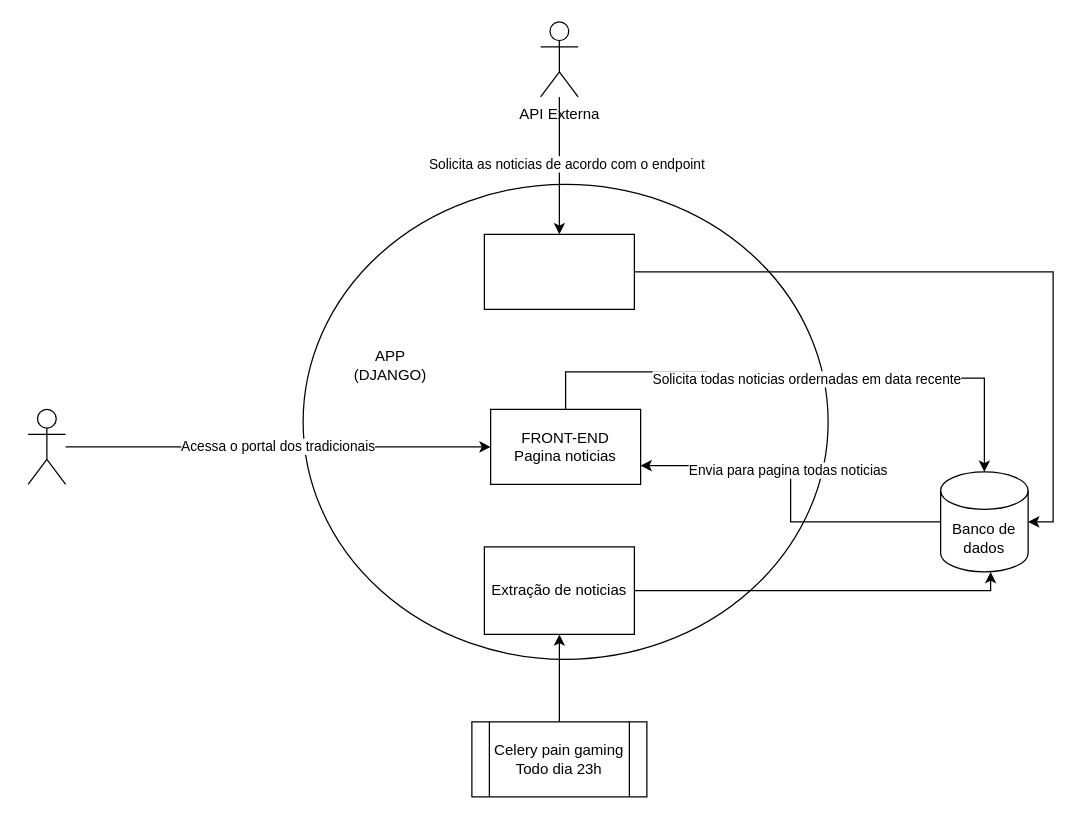
This 1085x819 diagram has some shape labels left out. Each missing label, with the box of its shape:
API noticias: (483, 233, 634, 309)
Usuario: (27, 408, 66, 484)
